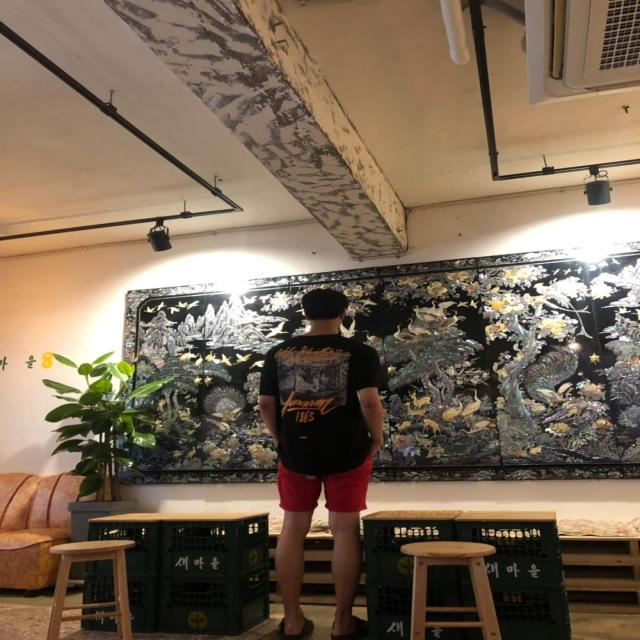shortpants: (278, 445, 375, 512)
shortsleeve: (255, 332, 380, 476)
